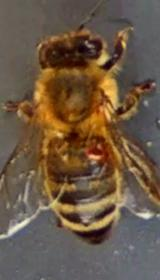varroa_mite: (78, 140, 119, 158)
